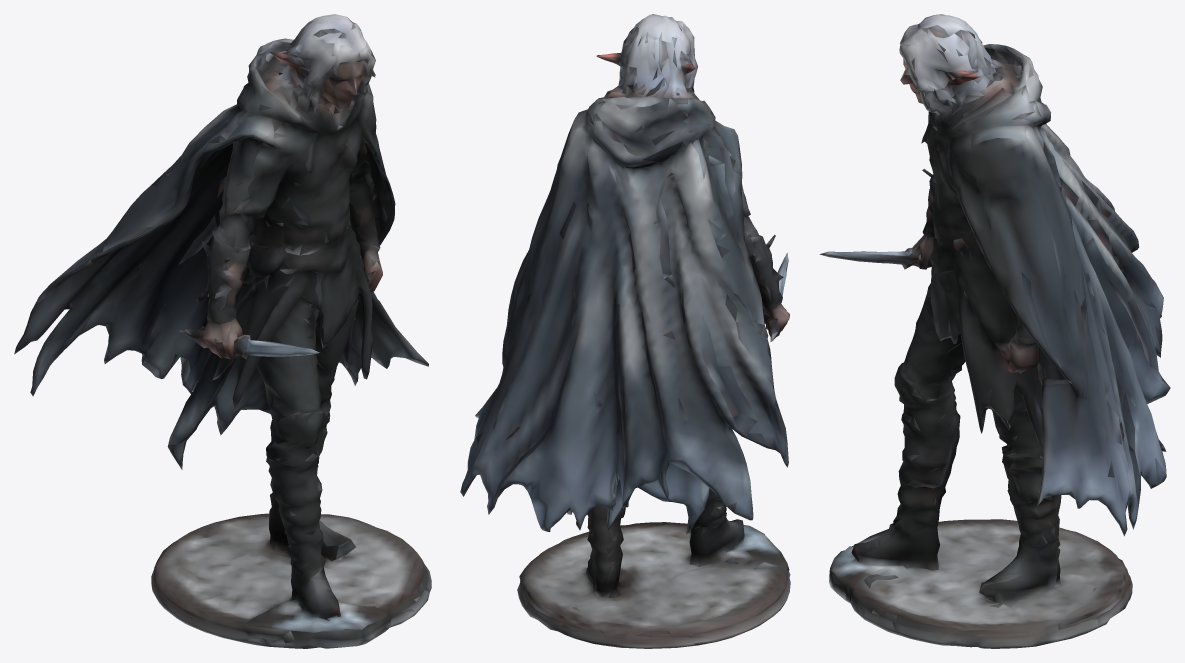
The model's file is Yelnorin (2)_final.glb.
3 views of the same model, side by side, from view 1: azimuth 30°, elevation 25°; view 2: azimuth 150°, elevation 25°; view 3: azimuth 270°, elevation 25° (orthographic). The views are drawn at different scales.
Visible parts, largest first — view 1: Mesh1.0; view 2: Mesh1.0; view 3: Mesh1.0.
Part boxes in pixels (<box>): Mesh1.0: <box>14,14,431,648</box>; Mesh1.0: <box>460,14,790,648</box>; Mesh1.0: <box>819,14,1170,648</box>.
Bounding box in the file's own units: 1.34 × 2 × 1.1.
1 material, 1 textured.
